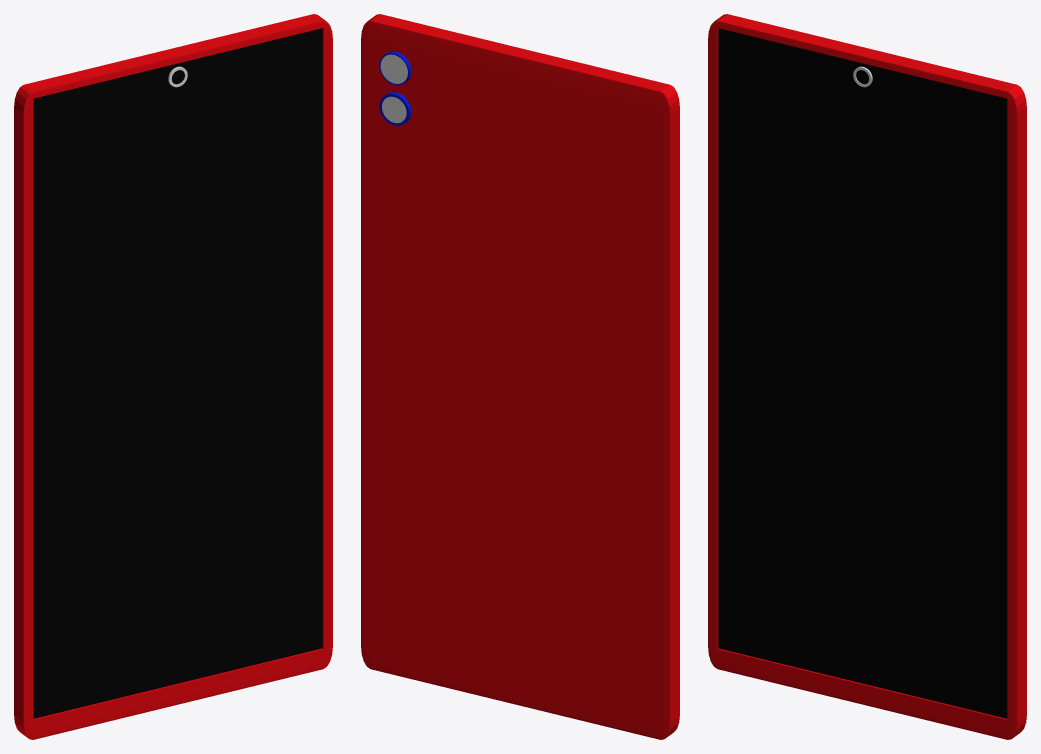
The model's file is MOBIL.glb.
The picture shows the model from 3 angles, left to right: view 1: azimuth 30°, elevation 25°; view 2: azimuth 150°, elevation 25°; view 3: azimuth 330°, elevation 25°; orthographic projection.
Parts seen in each view (by area): view 1: Cylinder; view 2: Cylinder; view 3: Cylinder.
Boxes of the visible parts, box(x1,y1,x2,y2) form: Cylinder: box(14, 14, 332, 739); Cylinder: box(361, 14, 679, 739); Cylinder: box(708, 14, 1026, 739).
Size of the model in its own units: 3.01 by 6.02 by 0.2112.
